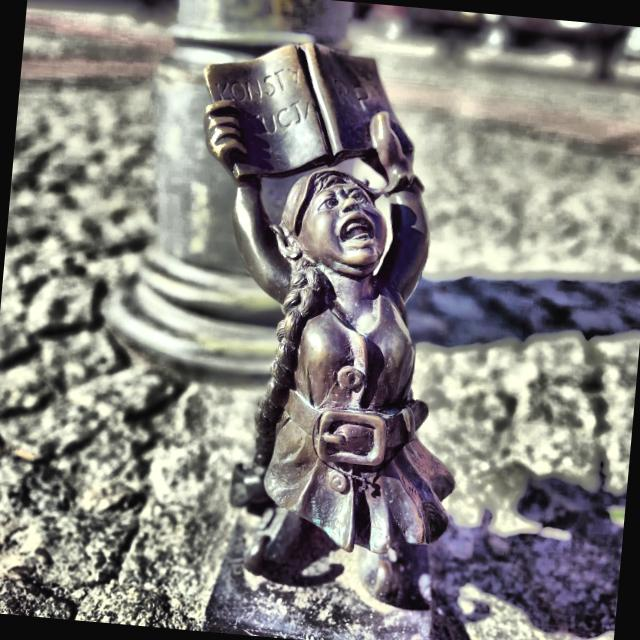Demokracja: (204, 43, 454, 640)
